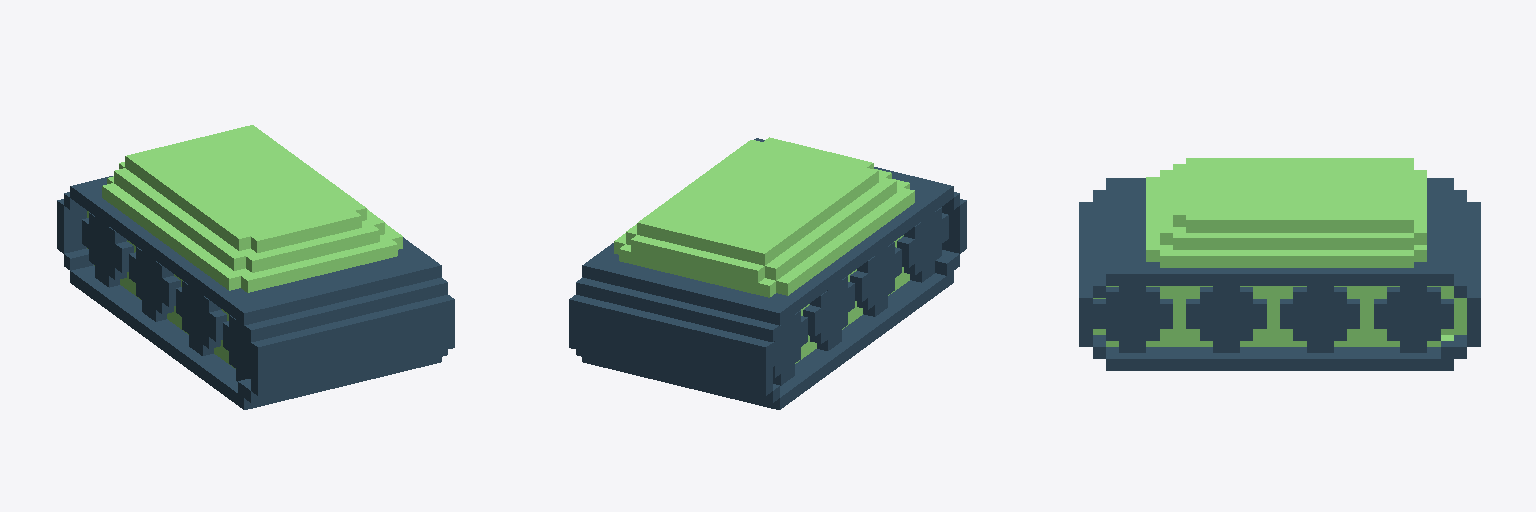
3 views of the same model, side by side, from view 1: azimuth 30°, elevation 25°; view 2: azimuth 150°, elevation 25°; view 3: azimuth 270°, elevation 25° (orthographic).
Parts seen in each view (by area): view 1: object 1; view 2: object 1; view 3: object 1.
Boxes of the visible parts, box(x1,y1,x2,y2) form: object 1: box(57, 125, 454, 409); object 1: box(569, 137, 966, 409); object 1: box(1079, 158, 1480, 370).
Bounding box in the file's own units: 1.7 × 1.1 × 3.
Materials: 1 (1 with a texture image).